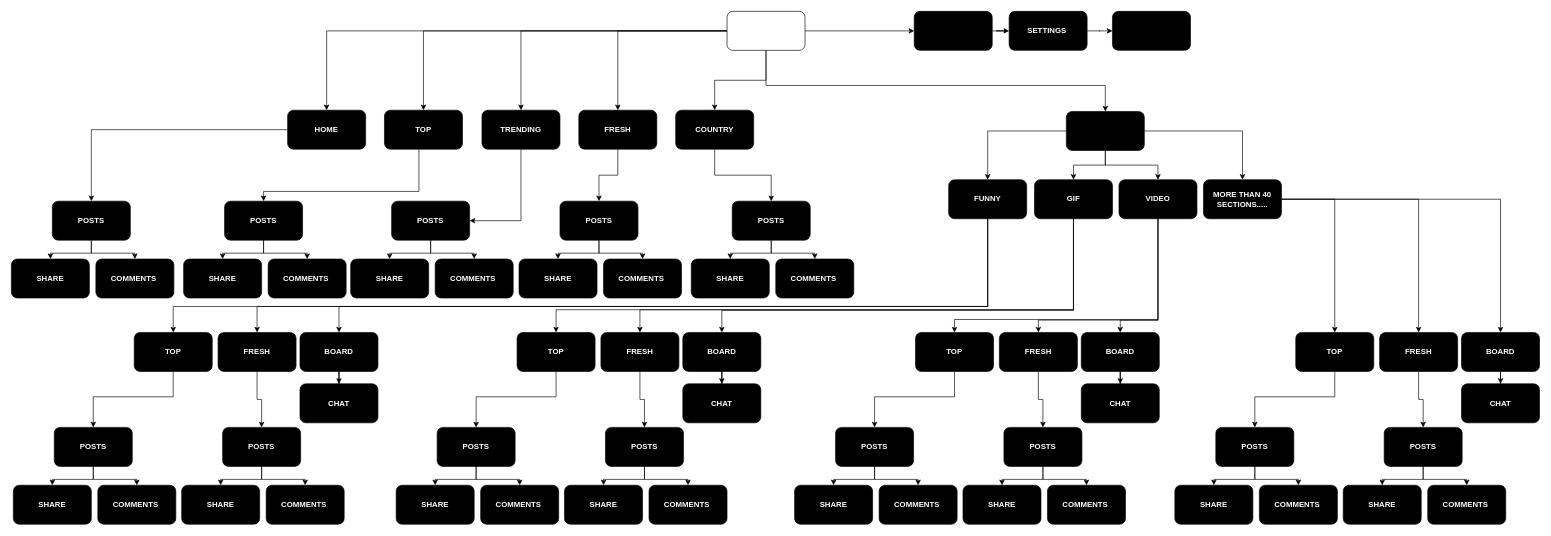
Some shapes in this 1551 by 536 pixel diagram are drawn without their labels. Here are the shapes that lost their labels. From the top down, the centre of each, then its label:
the point at 765,30: 9GAG
the point at 953,30: PROFILE
the point at 1151,30: SUPPORT
the point at 1105,130: SECTIONS
